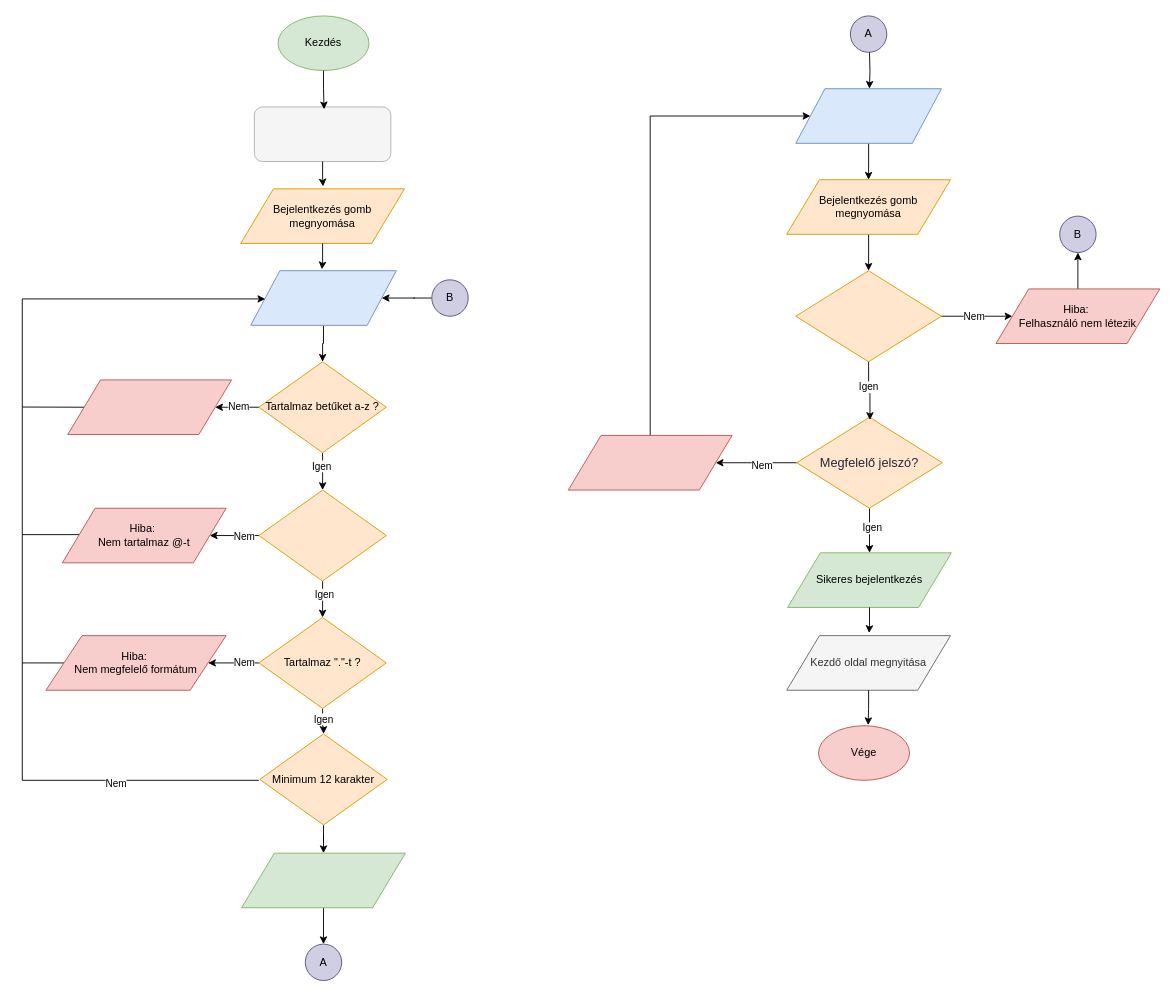
This 1176x996 diagram has some shape labels left out. The centre of each missing label's shape, as x and y in pixels:
E-mail bevitele: point (323, 297)
Hiba: Hibás jelszó: point (649, 462)
Hiba: Nem tartalmaz betűt (a-z, A-Z)?: point (149, 407)
Jelszó bevitele: point (868, 115)
Létezik a felhasználó?: point (868, 316)
Megfelelő e-mail: point (323, 880)
Oldal megnyitása: point (322, 134)
Tartalmaz "@"-t ?: point (322, 535)
